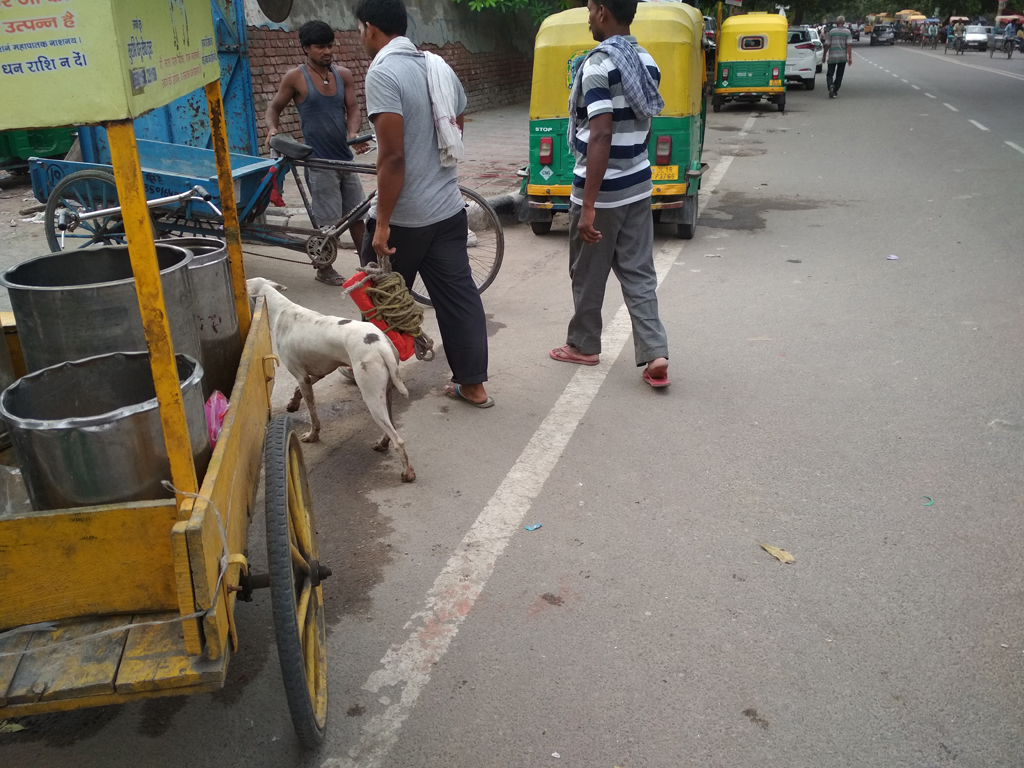dog: (245, 277, 416, 482)
